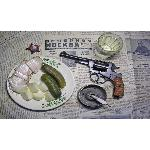Pistol: (50, 41, 132, 102)
